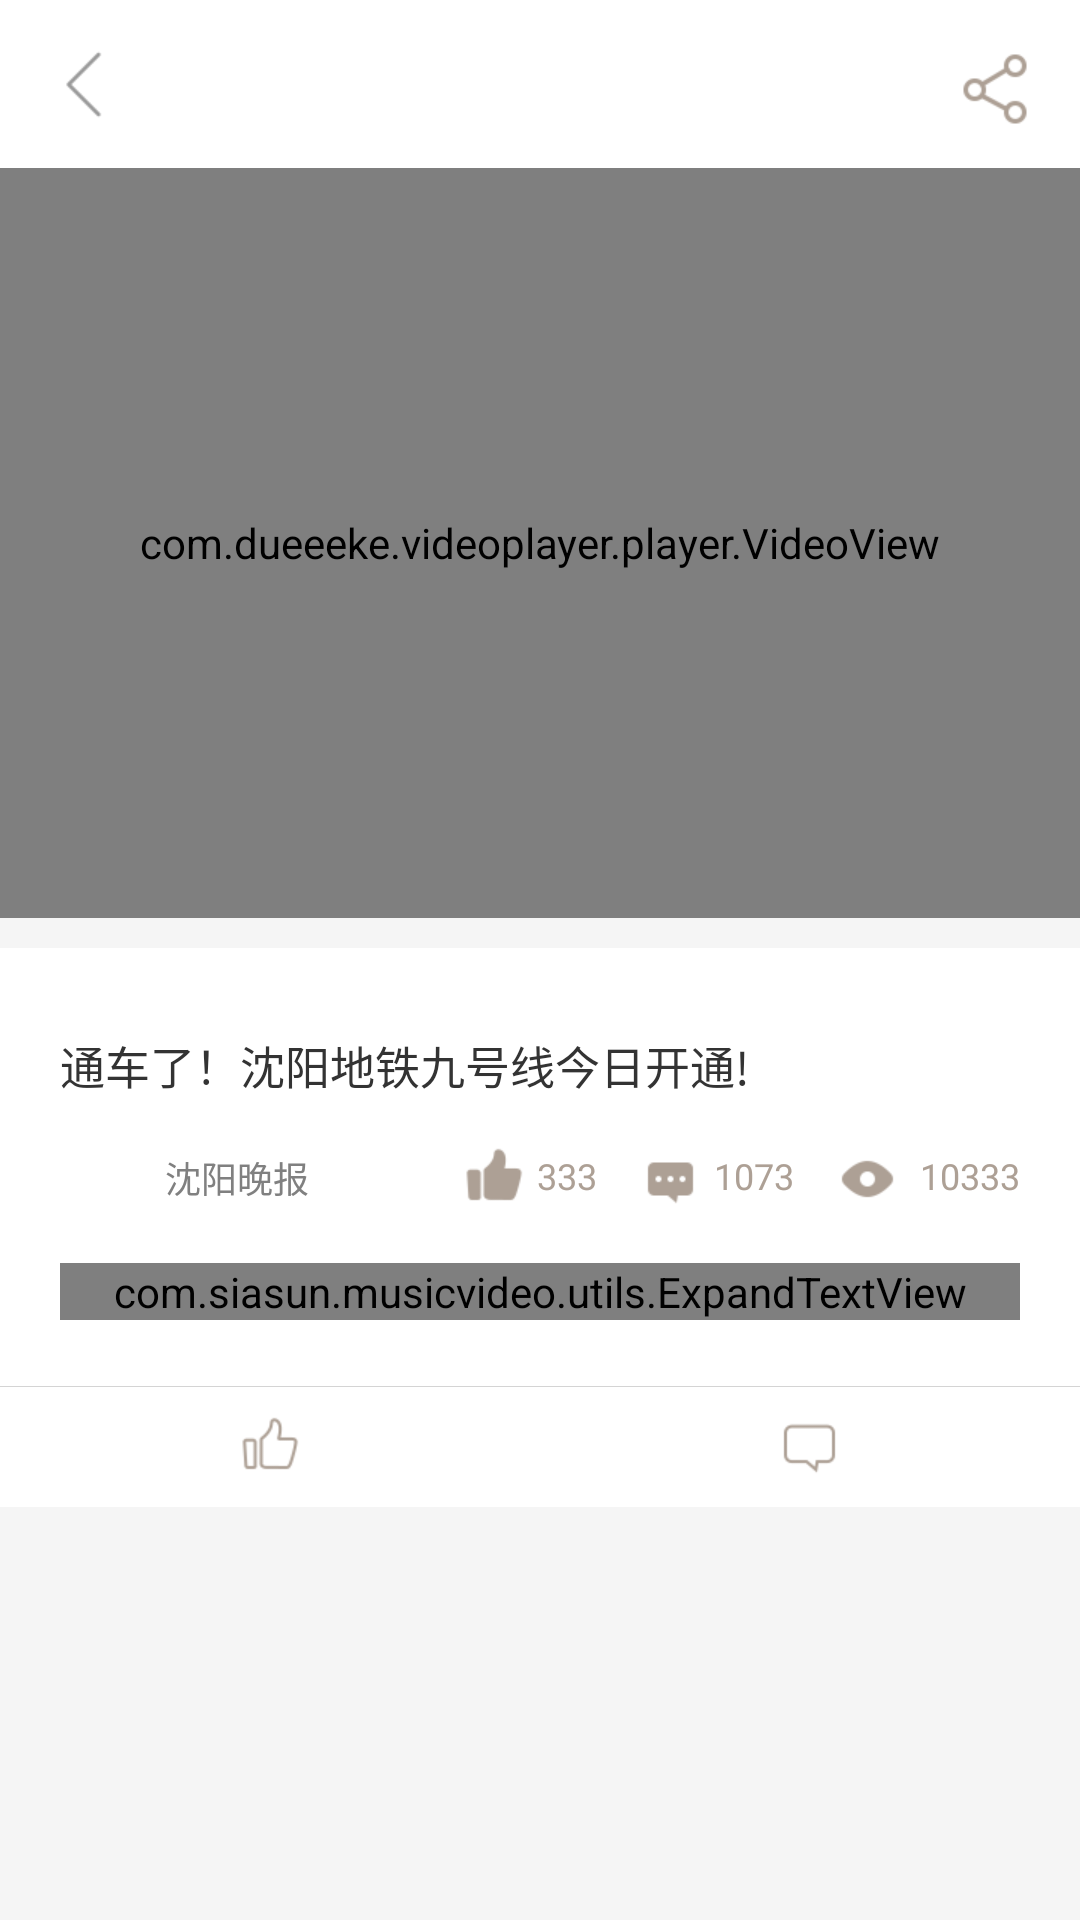

Locate icon controls on the screen. Image size 1080 x 1920, boxes as (x1, y1, x2, y2).
back: (66, 52, 101, 117)
commented count: (648, 1162, 693, 1203)
liked count: (466, 1149, 522, 1200)
see count: (842, 1161, 893, 1197)
share: (963, 54, 1027, 124)
